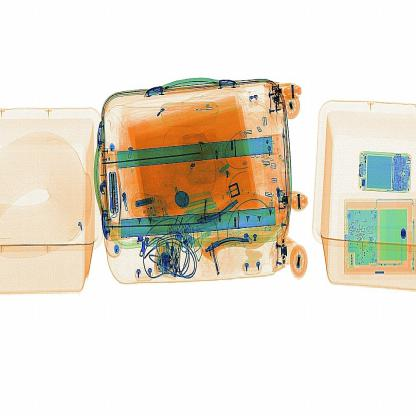scissors: (103, 165, 126, 225)
